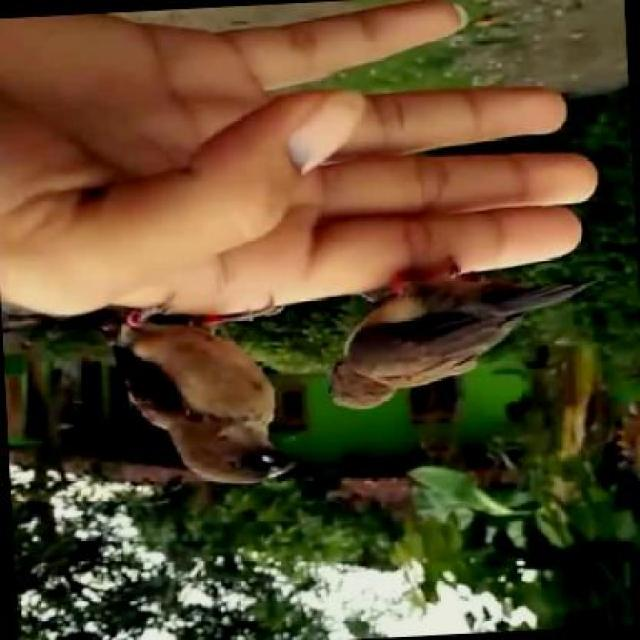Bird: (93, 279, 320, 514), (313, 258, 593, 417)
